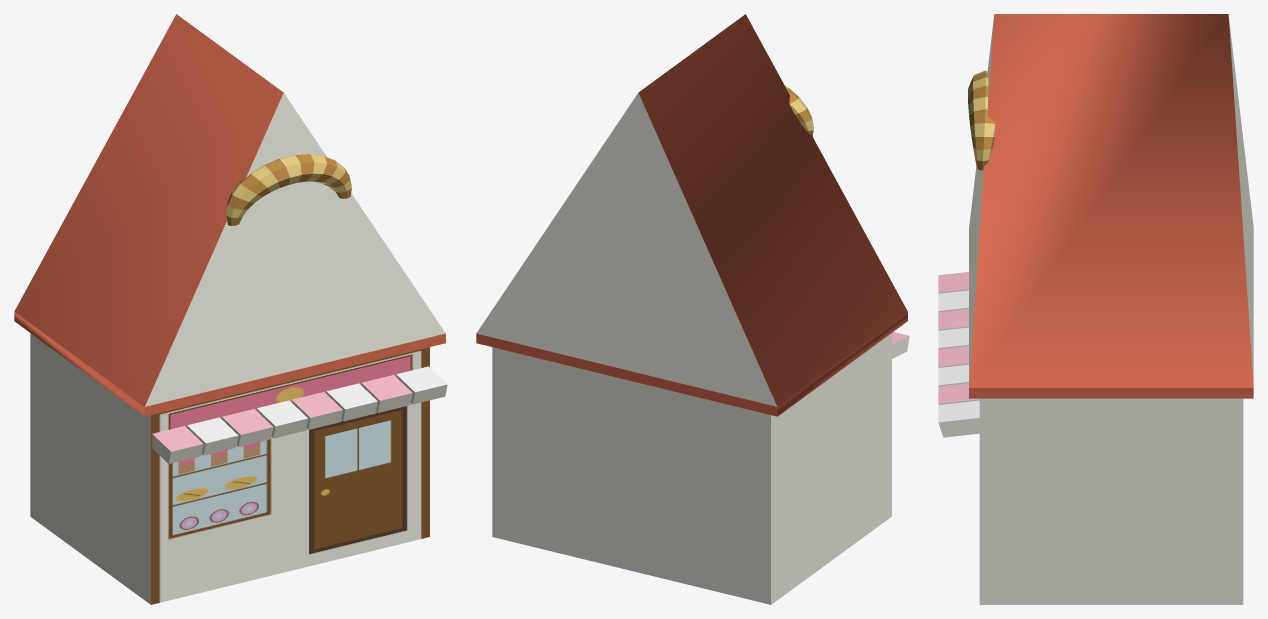
The model's file is building_bakery.glb.
The picture shows the model from 3 angles, left to right: view 1: azimuth 30°, elevation 25°; view 2: azimuth 150°, elevation 25°; view 3: azimuth 270°, elevation 25°; orthographic projection. The views are drawn at different scales.
Visible parts, largest first — view 1: building_bakery; view 2: building_bakery; view 3: building_bakery.
Boxes of the visible parts, x1,y1,x2,y2 form: building_bakery: (14, 14, 447, 604); building_bakery: (476, 14, 909, 604); building_bakery: (938, 14, 1253, 604).
Size of the model in its own units: 2.59 by 3.89 by 2.15.
8 materials, 3 textured.
